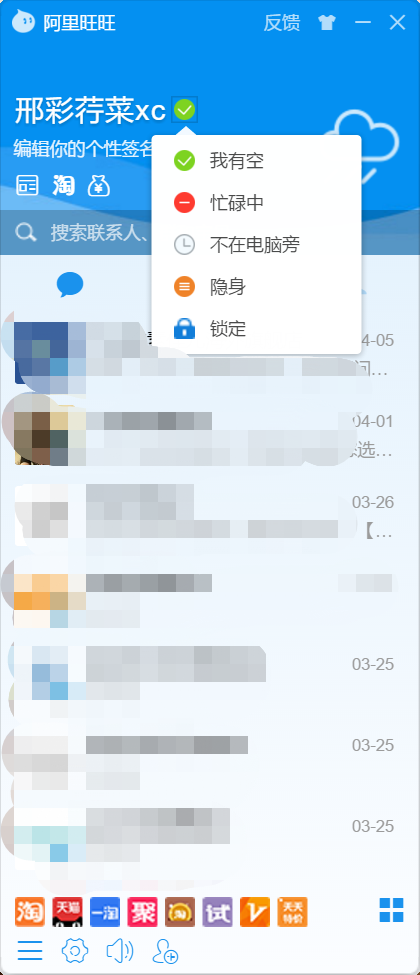button: (163, 895, 196, 929), (105, 935, 136, 967), (55, 270, 86, 299), (151, 936, 180, 966), (60, 936, 89, 965), (378, 895, 406, 925), (171, 95, 199, 123), (85, 171, 113, 198), (13, 219, 40, 246), (15, 938, 44, 963), (10, 8, 37, 34), (13, 172, 40, 198), (171, 273, 198, 299), (171, 315, 198, 341), (171, 189, 197, 215), (172, 148, 197, 173), (172, 232, 196, 256), (317, 13, 338, 33), (388, 12, 407, 32), (351, 16, 374, 28)
